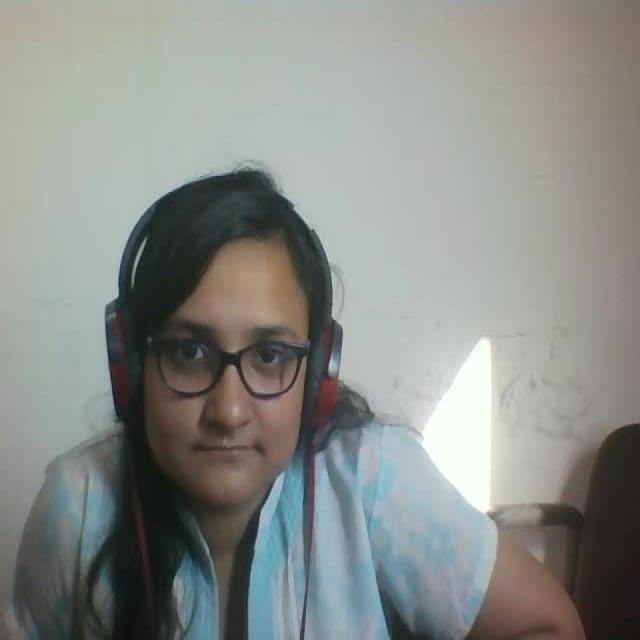Engaged: (98, 147, 347, 533)
